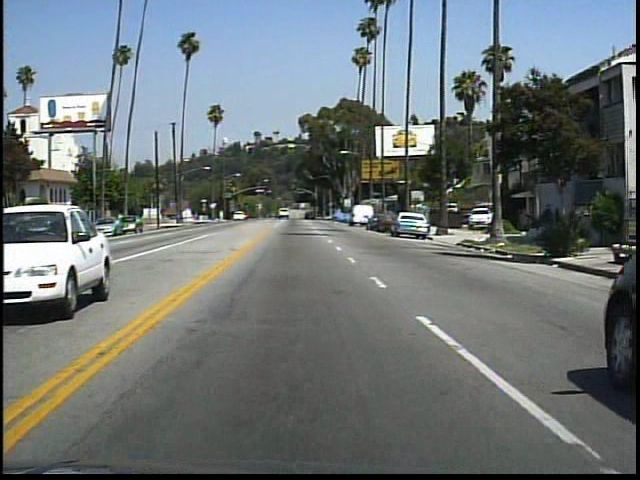person: (531, 198, 556, 253)
